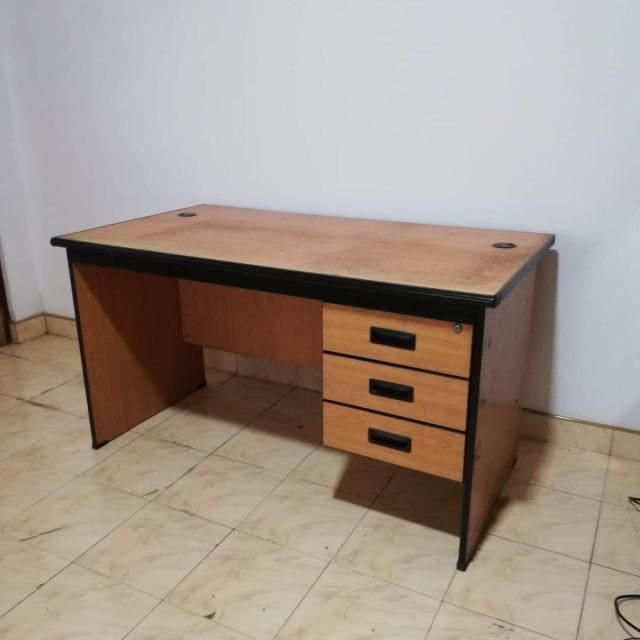table: (34, 188, 574, 586)
